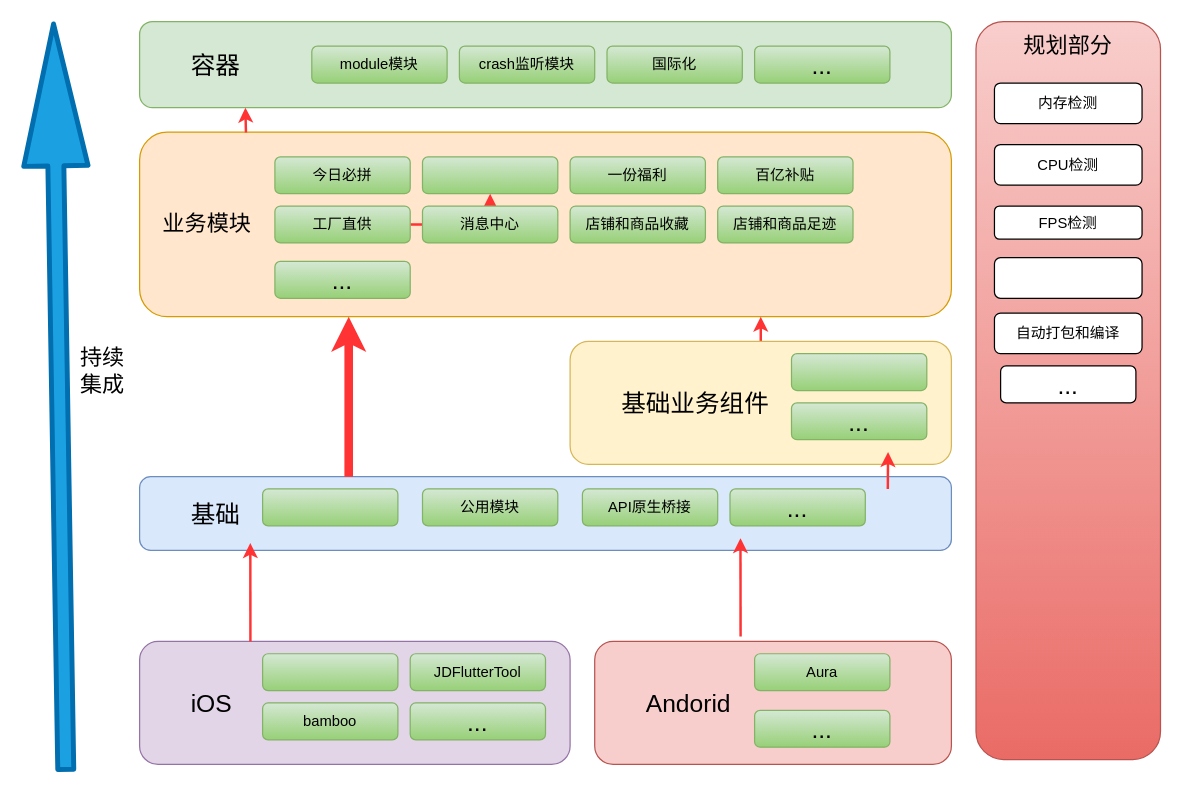
Image size: 1182x793. Some labels were removed from this diagram. Here are the shapes that lost their labels. From the top down, the centre of each, then its label:
point (489, 175): 9.9元拼
point (1067, 277): 高内存预警
point (858, 371): 打标模块
point (329, 507): 工具类模块
point (329, 672): iBiu
